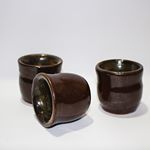cups: (28, 70, 93, 132), (95, 55, 145, 117)
